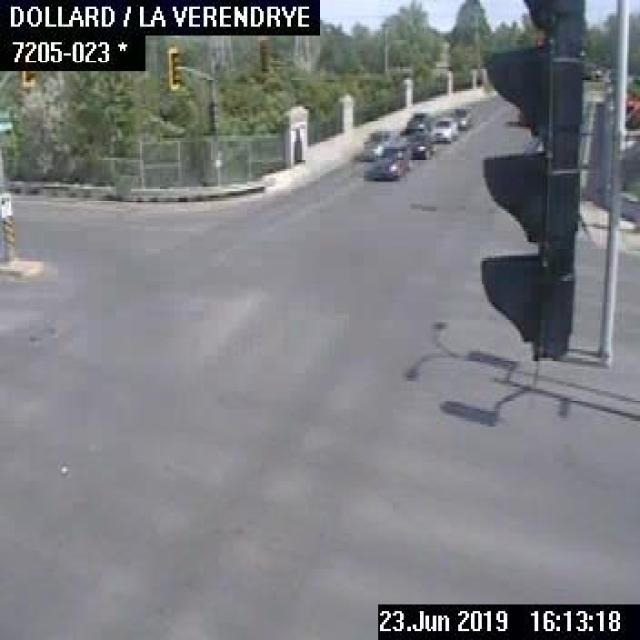vehicle: (367, 146, 410, 182), (358, 128, 392, 156), (403, 129, 435, 158), (430, 114, 458, 144), (401, 108, 431, 133), (450, 105, 474, 130)
